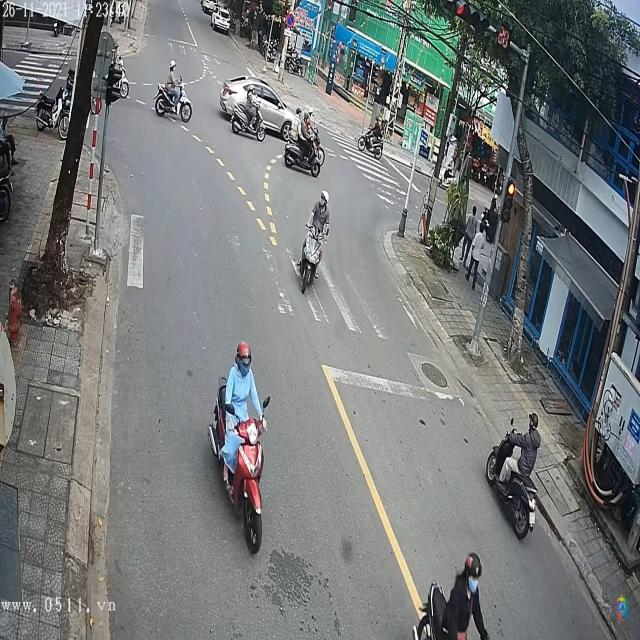car: (221, 71, 299, 139), (200, 2, 219, 15)
motorcycle: (208, 385, 272, 558), (490, 446, 539, 542), (281, 129, 323, 177), (230, 95, 267, 145), (298, 219, 322, 292), (154, 80, 192, 120), (358, 125, 382, 160)
